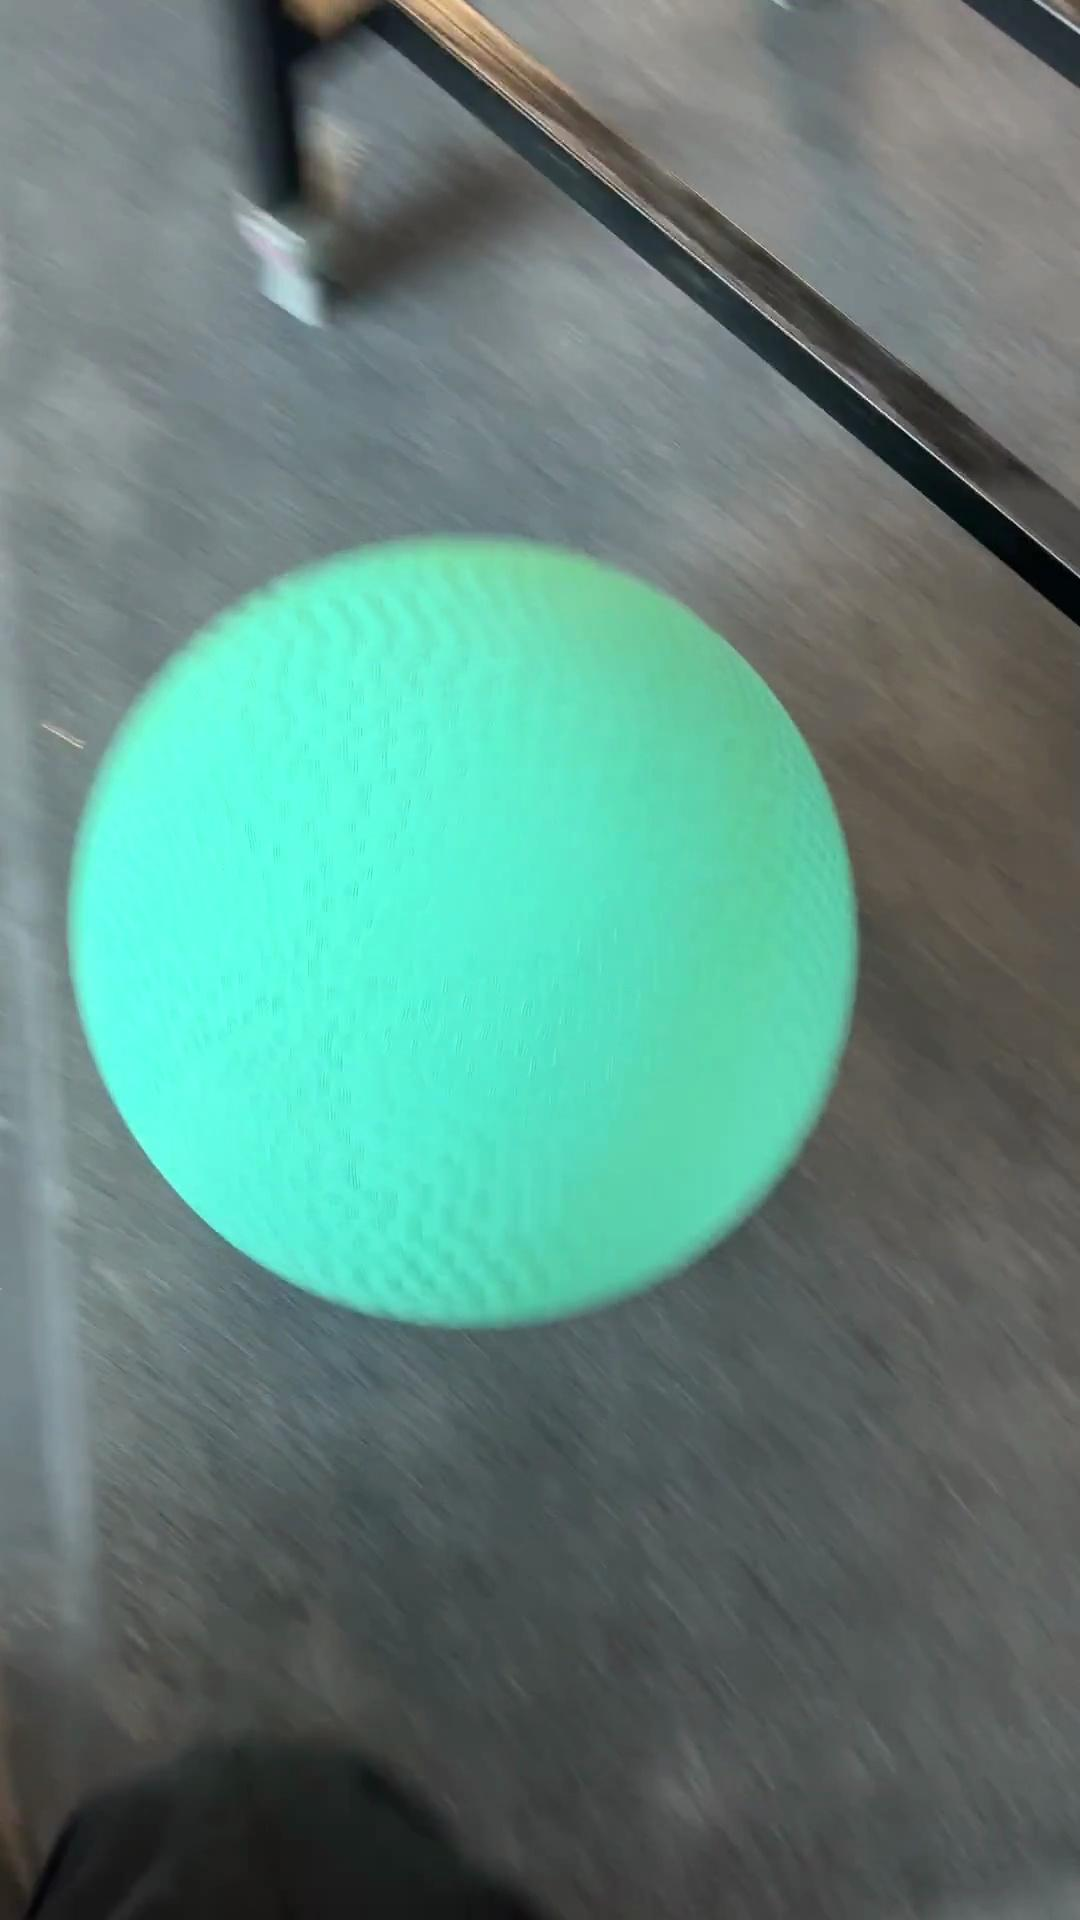ALGAE: (63, 530, 861, 1332)
